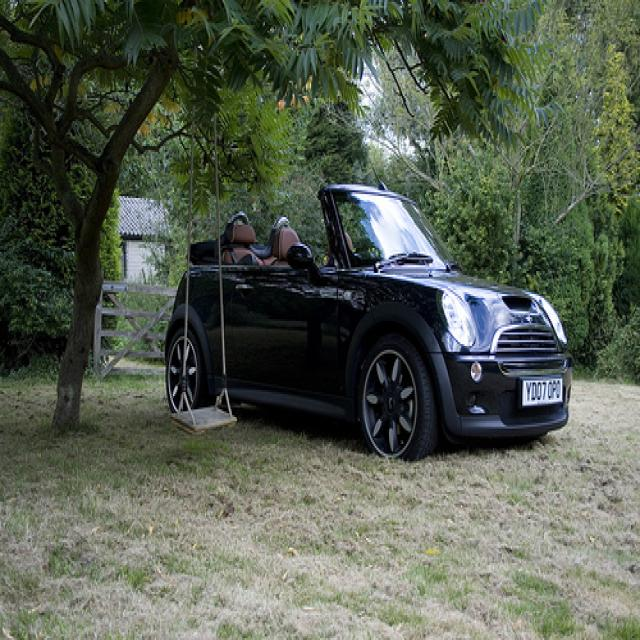car: (166, 182, 572, 462)
